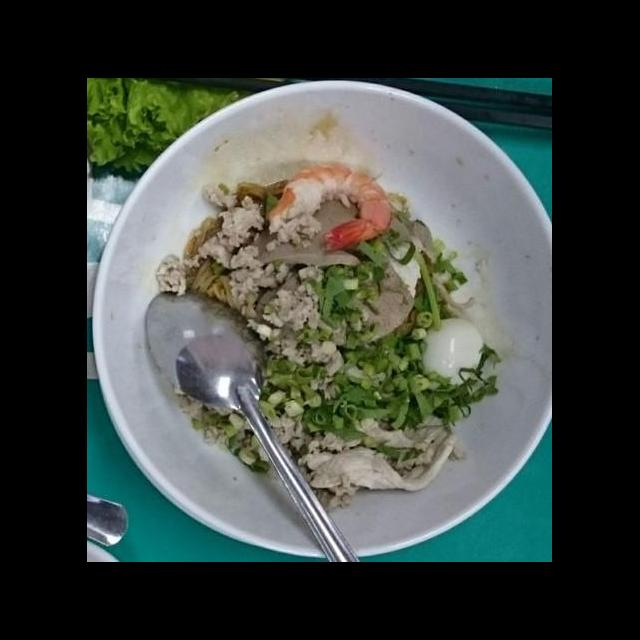gan: (336, 212, 440, 349), (248, 188, 372, 268)
thit bam: (174, 339, 353, 474), (217, 223, 303, 342)
thit heo: (198, 102, 390, 211), (304, 410, 462, 496)
tom: (262, 161, 396, 256)
trung: (417, 310, 488, 397)
